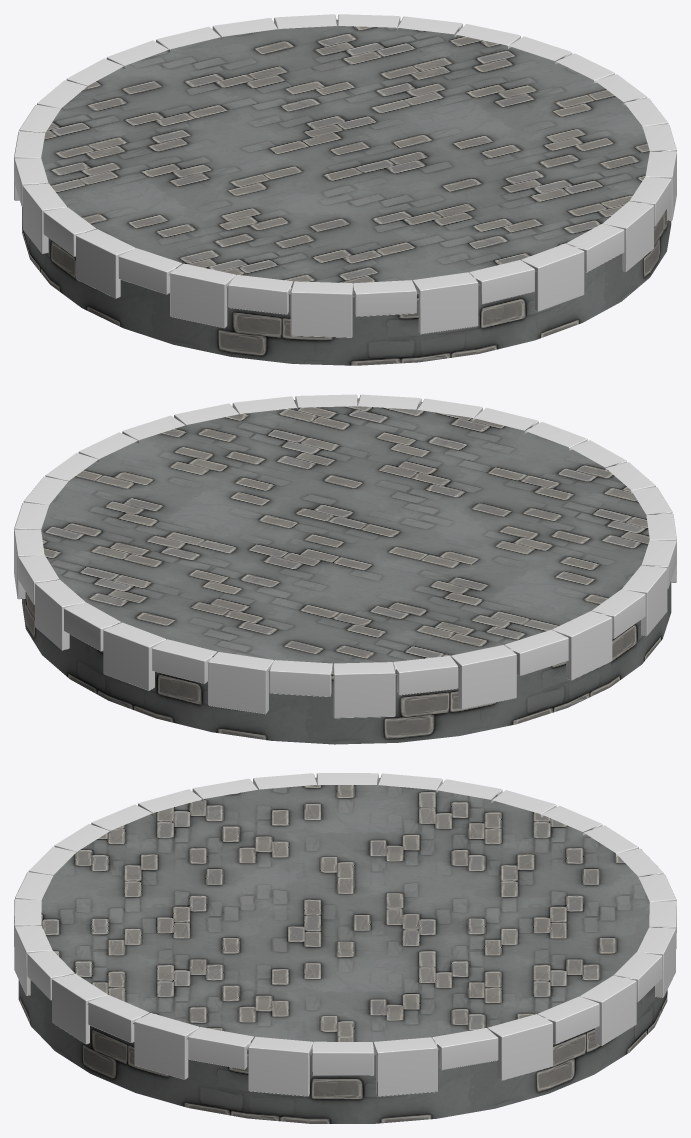
The model's file is SM_Tower_Base.fbx.
The picture shows the model from 3 angles, top to bottom: view 1: azimuth 30°, elevation 25°; view 2: azimuth 150°, elevation 25°; view 3: azimuth 270°, elevation 25°; orthographic projection.
Parts seen in each view (by area): view 1: SM_Tower_Base_LOD0; view 2: SM_Tower_Base_LOD0; view 3: SM_Tower_Base_LOD0.
Boxes of the visible parts, x1,y1,x2,y2 form: SM_Tower_Base_LOD0: (14, 14, 676, 365); SM_Tower_Base_LOD0: (14, 394, 676, 744); SM_Tower_Base_LOD0: (14, 773, 676, 1123).
Size of what is drawn, in the model's own units: 16.45 by 2.03 by 16.45.
